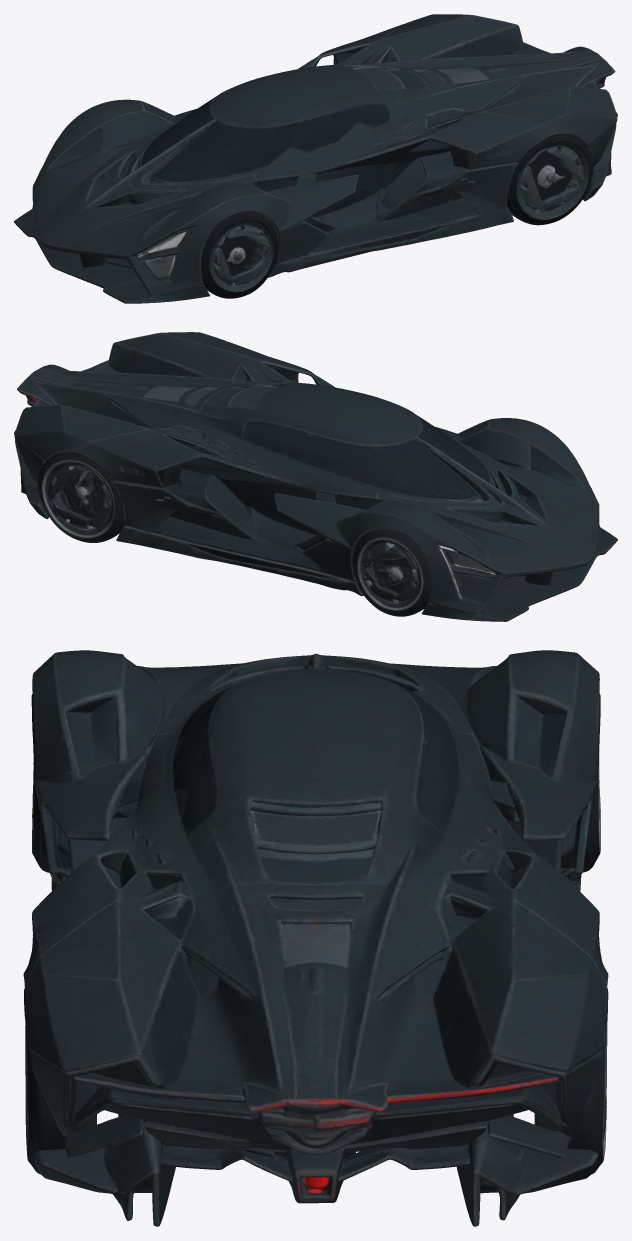
The model's file is relic-001.glb.
The picture shows the model from 3 angles, top to bottom: view 1: azimuth 30°, elevation 25°; view 2: azimuth 150°, elevation 25°; view 3: azimuth 270°, elevation 25°; orthographic projection. The views are drawn at different scales.
Size of the model in its own units: 1.89 by 0.4302 by 0.8599.
Materials: 1 (1 with a texture image).
